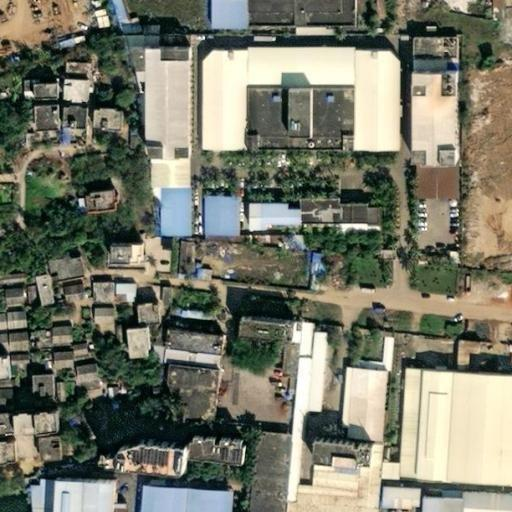building: (444, 373, 512, 486), (243, 85, 349, 152), (349, 47, 398, 152), (194, 51, 244, 152), (151, 51, 195, 150), (244, 46, 350, 87), (389, 368, 424, 482), (415, 371, 449, 483), (184, 33, 397, 48), (345, 365, 381, 441), (415, 74, 444, 167), (443, 75, 468, 168), (292, 0, 355, 30), (315, 445, 382, 472), (175, 484, 232, 512), (239, 319, 294, 348), (287, 484, 351, 508), (458, 485, 512, 512), (303, 328, 320, 411), (155, 349, 219, 371), (301, 463, 353, 490), (132, 481, 177, 512), (368, 485, 419, 512), (242, 0, 293, 26), (26, 77, 60, 109), (82, 484, 118, 512), (349, 471, 375, 509), (31, 433, 61, 465), (261, 202, 300, 226), (124, 327, 151, 361), (281, 502, 371, 512), (165, 187, 184, 234), (300, 201, 337, 225), (87, 105, 121, 131), (225, 444, 256, 472), (56, 482, 84, 512), (57, 103, 88, 130), (58, 79, 89, 105), (196, 195, 216, 234), (37, 410, 68, 435), (30, 107, 62, 131), (79, 280, 108, 306), (149, 187, 165, 234), (26, 376, 54, 402), (201, 441, 227, 469), (337, 365, 348, 430), (168, 302, 210, 319), (284, 405, 303, 442), (215, 196, 233, 235), (369, 332, 389, 367), (151, 450, 186, 470), (10, 413, 39, 437), (109, 244, 136, 269), (415, 167, 436, 199), (29, 474, 50, 506), (203, 0, 224, 31), (223, 0, 244, 30), (57, 251, 80, 278), (39, 255, 62, 282), (90, 190, 118, 212), (292, 359, 305, 406), (449, 339, 466, 373), (436, 167, 454, 199), (145, 162, 168, 187), (135, 305, 160, 328), (108, 280, 130, 306), (242, 200, 261, 230), (407, 39, 438, 57), (30, 277, 47, 309), (0, 441, 19, 469), (54, 284, 79, 305), (293, 319, 306, 359), (122, 461, 152, 478), (282, 441, 290, 502), (16, 284, 33, 312), (150, 467, 184, 481), (168, 162, 187, 187), (407, 57, 443, 70), (151, 33, 184, 47), (0, 328, 21, 350), (103, 377, 124, 399), (286, 26, 332, 36), (0, 309, 21, 330), (167, 241, 180, 274), (135, 50, 152, 74), (44, 350, 64, 369), (183, 453, 196, 482), (348, 203, 364, 226), (176, 321, 209, 332), (158, 280, 173, 304), (69, 373, 89, 390), (67, 361, 91, 375), (107, 15, 122, 37), (275, 387, 292, 406), (417, 498, 440, 512), (86, 308, 107, 323), (380, 462, 396, 481), (439, 498, 460, 512), (192, 454, 202, 483), (337, 201, 349, 225), (102, 0, 118, 18), (438, 39, 453, 58), (63, 348, 82, 363), (13, 82, 27, 102), (363, 207, 377, 226), (0, 358, 11, 382), (12, 382, 28, 398), (116, 35, 137, 47), (435, 489, 454, 502), (134, 451, 153, 464), (465, 340, 479, 357), (44, 326, 65, 337), (155, 150, 174, 162), (135, 246, 144, 270), (137, 33, 151, 47), (178, 242, 184, 274), (105, 325, 115, 344), (135, 74, 152, 85), (65, 198, 80, 210), (504, 353, 512, 375), (125, 475, 150, 482), (62, 341, 81, 350), (480, 10, 497, 20), (44, 336, 65, 344), (52, 129, 62, 145), (161, 320, 177, 330), (498, 343, 512, 354), (32, 360, 46, 371), (301, 259, 311, 274), (196, 267, 208, 279), (120, 21, 132, 33), (118, 13, 130, 24), (187, 266, 197, 279), (443, 58, 453, 70), (429, 363, 442, 372), (302, 250, 313, 260), (0, 388, 5, 404), (0, 404, 2, 413)
